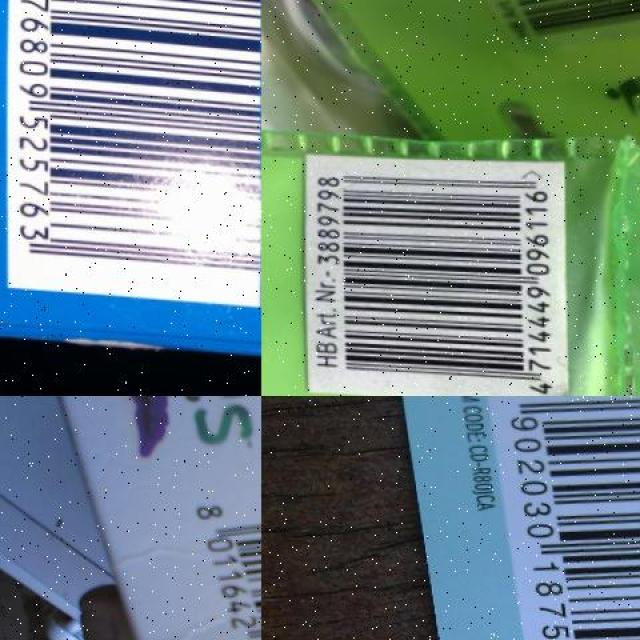Barcode: (0, 0, 261, 302), (301, 148, 568, 396), (485, 396, 640, 640), (174, 480, 262, 640)
